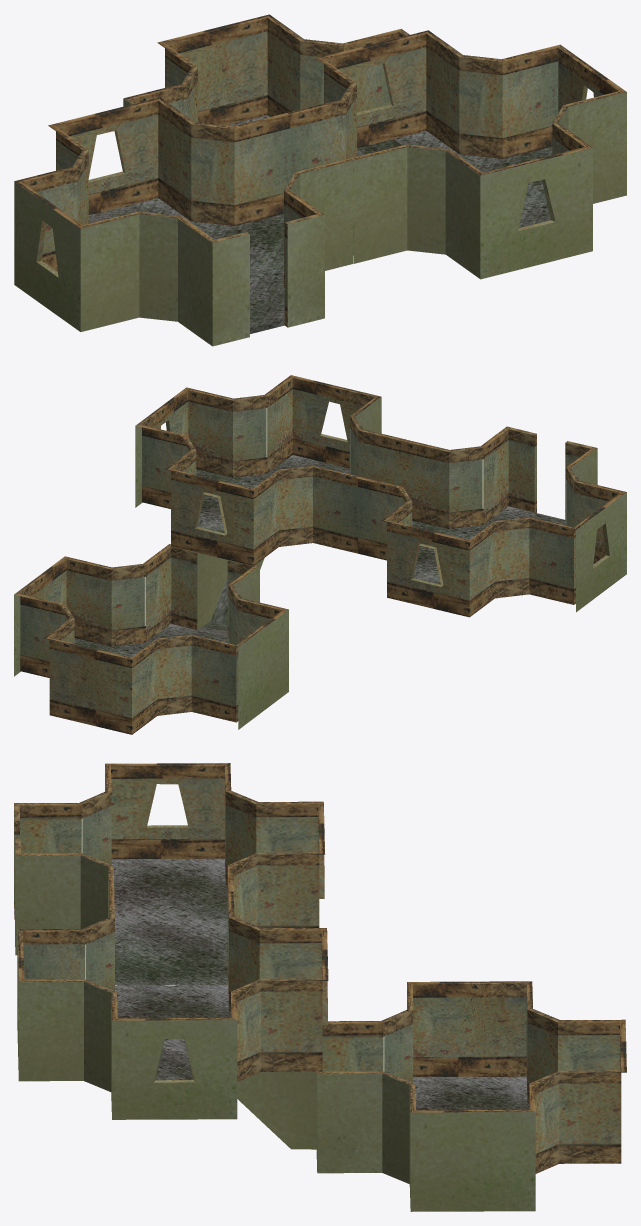
The model's file is level1_casa_marron.fbx.
The picture shows the model from 3 angles, top to bottom: view 1: azimuth 30°, elevation 25°; view 2: azimuth 150°, elevation 25°; view 3: azimuth 270°, elevation 25°; orthographic projection. The views are drawn at different scales.
Visible parts, largest first — view 1: pared_lv3_012, pared_lv3_08, sotano_03, pared_lv1_018, pared_lv2_019, pared_lv2_024, pared_lv1_012, pared_lateral_03, suelo_09, pared_lv1_011, pared_lv2_023, pared_lv2_020 (+2 smaller); view 2: sotano_03, pared_lv3_08, pared_lv3_012, pared_lv1_018, pared_lv2_023, pared_lv2_020, suelo_bajada_03, pared_lv1_011, pared_lateral_03, pared_lv2_024, pared_lv2_019, suelo_09 (+2 smaller); view 3: sotano_03, suelo_09, pared_lv3_012, pared_lv3_08, pared_lateral_011, pared_lv1_018, pared_lateral_03, suelo_bajada_03, pared_lv1_011, pared_lv1_012, pared_lv2_023, pared_lv2_019 (+2 smaller).
Part boxes in pixels (left/top/right/bottom): pared_lv3_012: left=288, top=30, right=559, bottom=179; pared_lv3_08: left=14, top=97, right=290, bottom=270; sotano_03: left=123, top=14, right=409, bottom=255; pared_lv1_018: left=445, top=123, right=592, bottom=279; pared_lv2_019: left=80, top=211, right=180, bottom=331; pared_lv2_024: left=351, top=144, right=449, bottom=263; pared_lv1_012: left=178, top=216, right=249, bottom=346; pared_lateral_03: left=14, top=181, right=82, bottom=331; suelo_09: left=56, top=198, right=284, bottom=333; pared_lv1_011: left=284, top=190, right=324, bottom=327; pared_lv2_023: left=552, top=91, right=626, bottom=203; pared_lv2_020: left=284, top=158, right=353, bottom=270; sotano_03: left=14, top=544, right=288, bottom=734; pared_lv3_08: left=356, top=476, right=575, bottom=617; pared_lv3_012: left=136, top=425, right=357, bottom=565; pared_lv1_018: left=265, top=375, right=381, bottom=473; pared_lv2_023: left=186, top=387, right=267, bottom=477; pared_lv2_020: left=404, top=440, right=483, bottom=529; suelo_bajada_03: left=196, top=455, right=349, bottom=637; pared_lv1_011: left=480, top=426, right=536, bottom=524; pared_lateral_03: left=574, top=492, right=626, bottom=612; pared_lv2_024: left=350, top=416, right=406, bottom=488; pared_lv2_019: left=566, top=467, right=625, bottom=563; suelo_09: left=412, top=506, right=593, bottom=584; sotano_03: left=316, top=981, right=626, bottom=1211; suelo_09: left=111, top=858, right=228, bottom=985; pared_lv3_012: left=228, top=891, right=328, bottom=1081; pared_lv3_08: left=225, top=763, right=325, bottom=980; pared_lateral_011: left=112, top=1018, right=237, bottom=1119; pared_lv1_018: left=17, top=929, right=85, bottom=1081; pared_lateral_03: left=105, top=763, right=230, bottom=859; suelo_bajada_03: left=115, top=985, right=316, bottom=1149; pared_lv1_011: left=15, top=838, right=82, bottom=955; pared_lv1_012: left=14, top=803, right=81, bottom=919; pared_lv2_023: left=84, top=979, right=117, bottom=1111; pared_lv2_019: left=79, top=764, right=111, bottom=864.
Size of the model in its own units: 9120 by 3176 by 9169.
